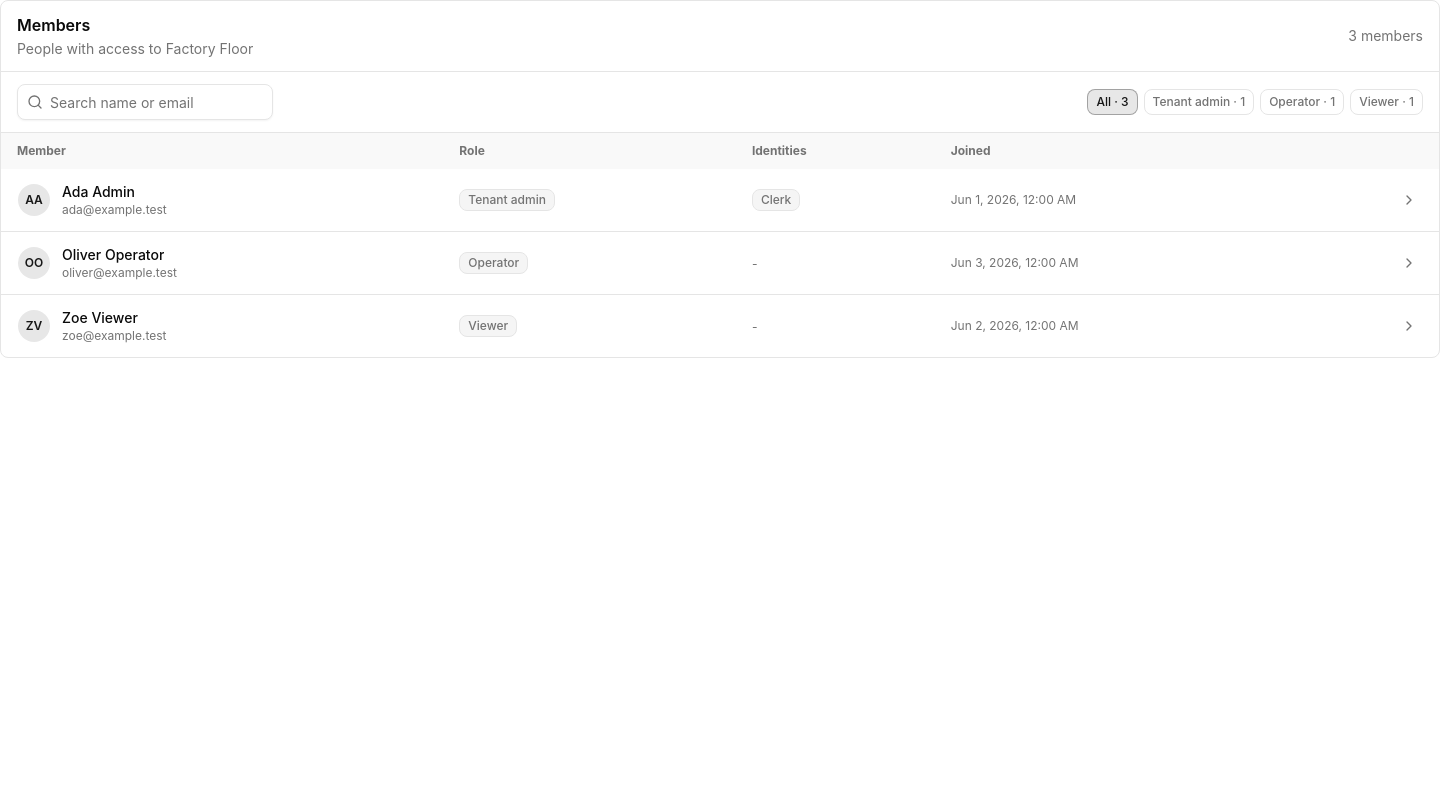
MembersSection › opens the member detail dialog with identities
Click the button named "Manage Ada Admin" at (1409, 200), box [1395,186,1423,214]
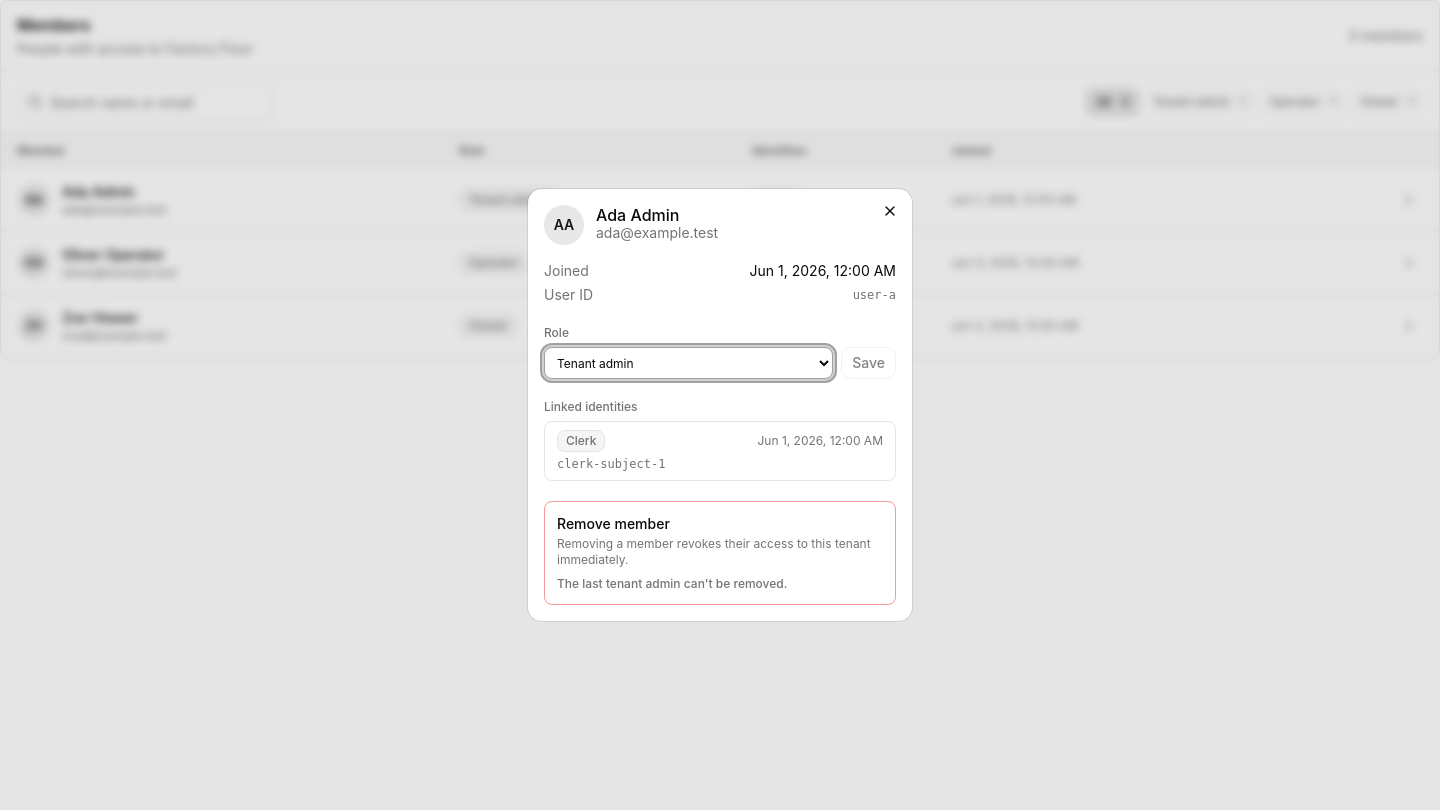
Expected: the text "Linked identities" is shown, [544,399,638,414]
Expected: the text "clerk-subject-1" is shown, [557,457,665,471]
Expected: the text "User ID" is shown, [544,285,593,305]
